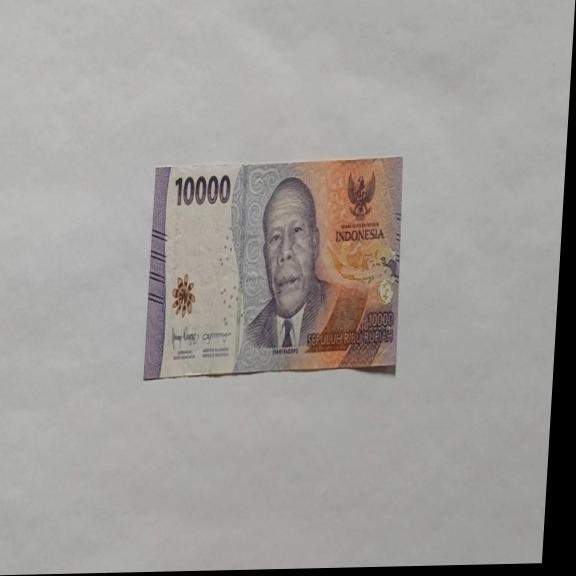Kertas: (142, 155, 409, 381), (172, 172, 233, 208)
